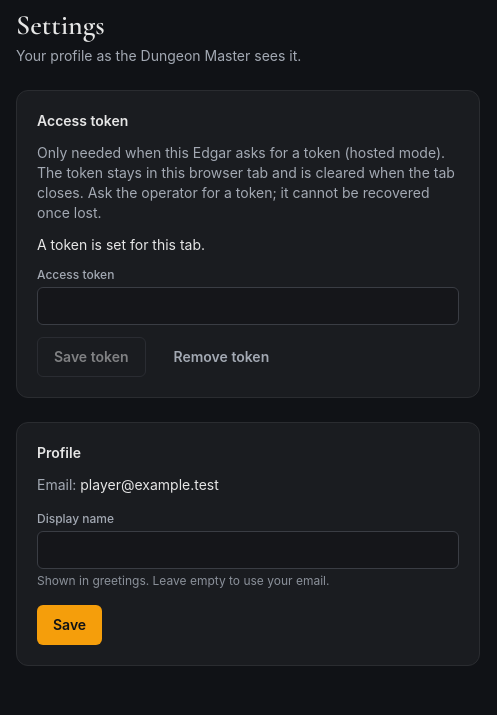
Test: removes the stored token on request
Click the button "Remove token" at (221, 357), box [158,337,285,377]
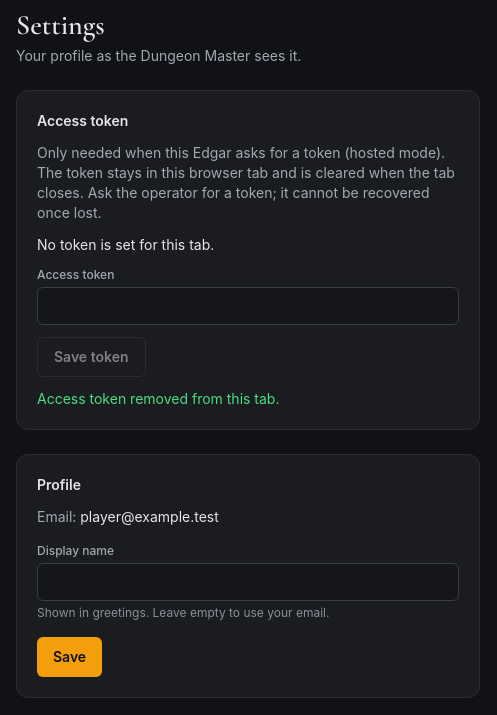
Now the text "No token is set for this tab." is shown, box [37,236,214,253]
